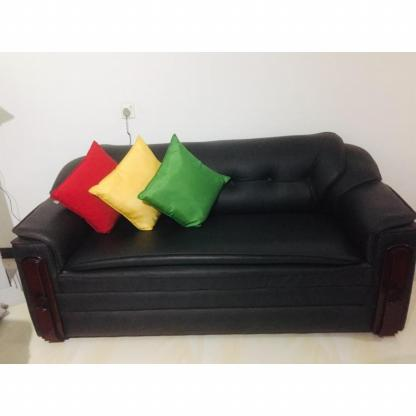Sofa: (10, 132, 410, 342)
